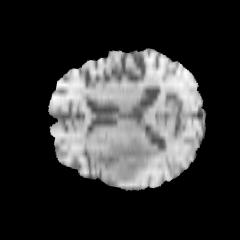glioma: (103, 138, 161, 182)
